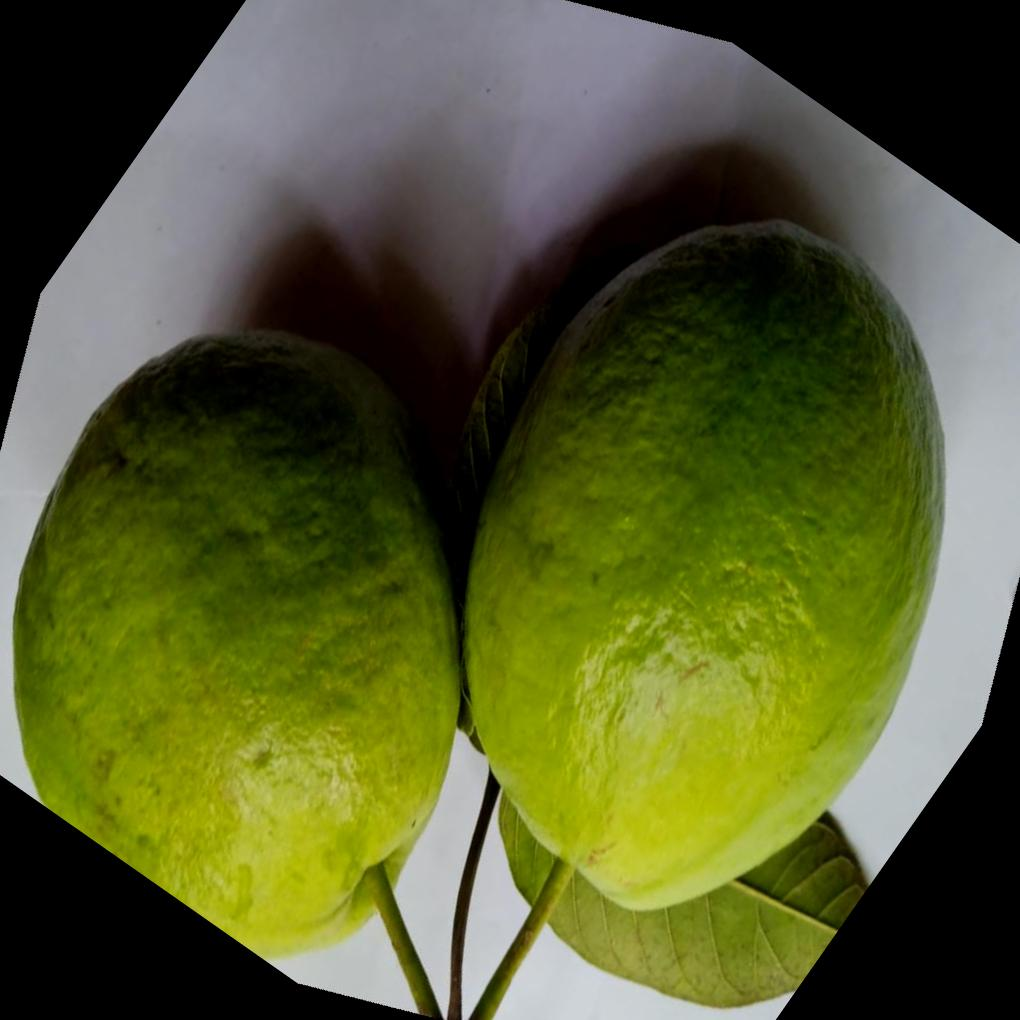FreshGuava: (7, 212, 946, 1009)
